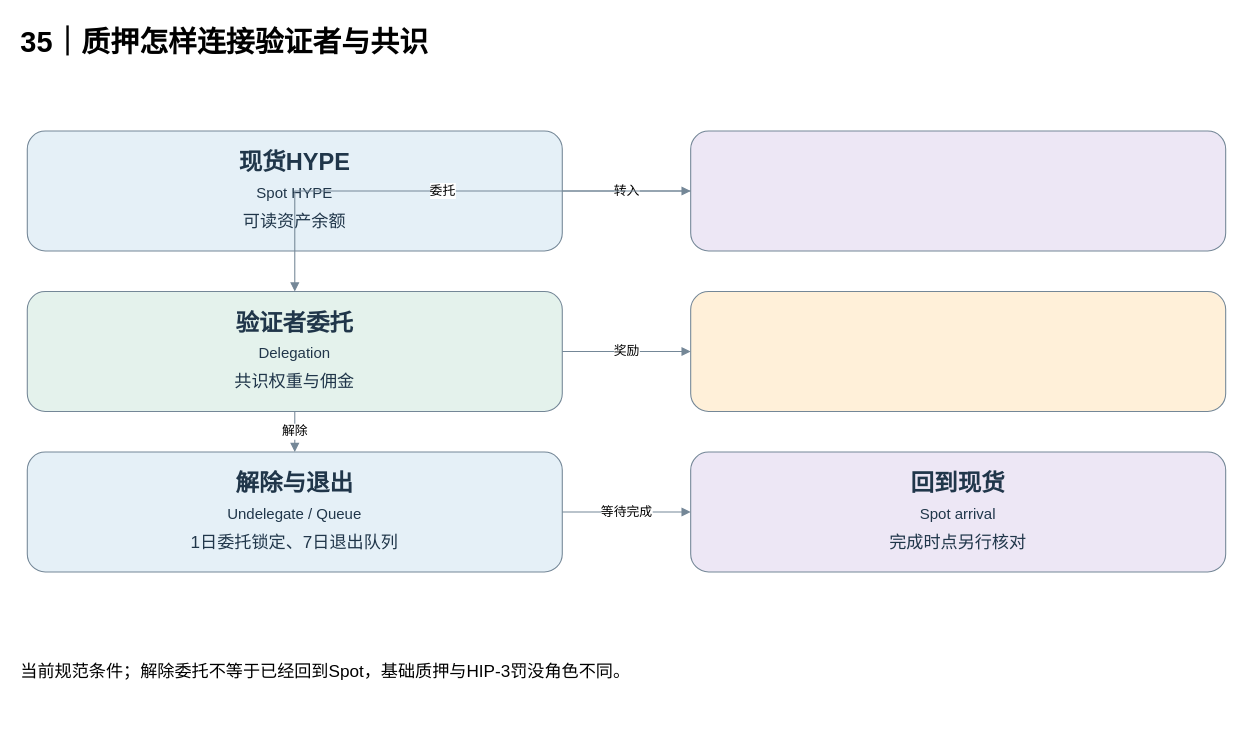
The diagram is 1252 pixels wide and 738 high, and some of its shapes have lost their labels. Each missing label, with the centre of its shape:
"奖励 Staking rewards 规定来源与再委托" goes at (x=958, y=351).
"质押余额 Staking balance 尚未委托或已解除" goes at (x=958, y=190).
